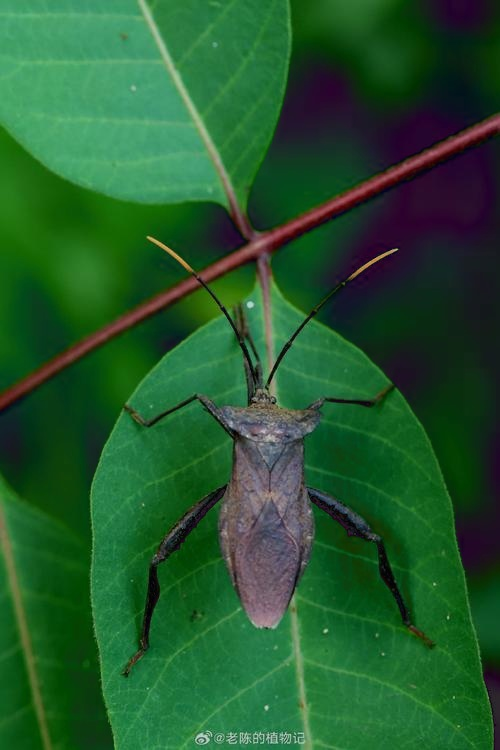Stink_Bug: (184, 343, 351, 603)
